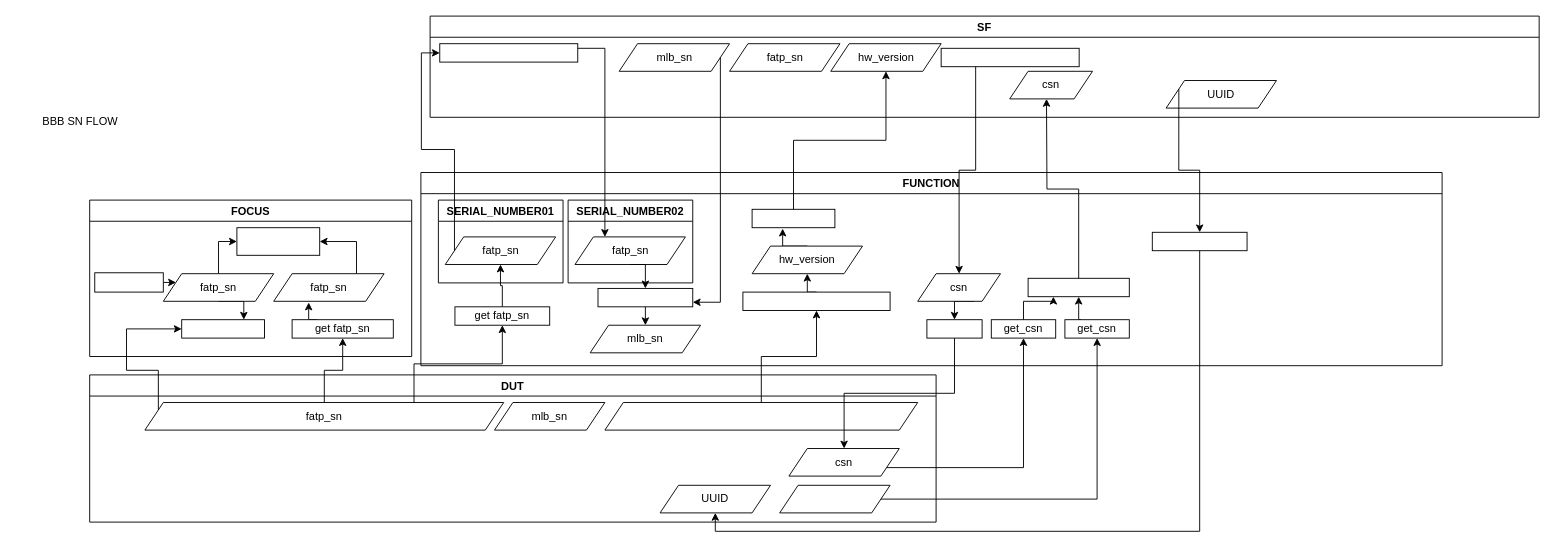
Image size: 1555x555. Some labels were removed from this diagram. The shapes that lost their labels are listed below. From the top down, each one's centre as x and y in pixels, then its label:
(x=508, y=52): VERIFY_SN(commend2)
(x=1009, y=57): SF arrange csn
(x=793, y=218): upload
(x=278, y=241): compare
(x=1199, y=241): set_uuid
(x=128, y=282): scan_lable
(x=645, y=297): get mlb_sn
(x=816, y=300): BumblebeeHwVerTrans.bat
(x=1078, y=287): upload_csn
(x=222, y=328): set fatp_sn
(x=954, y=328): set_csn
(x=761, y=416): pcbahwver
(x=834, y=498): csn(old)
